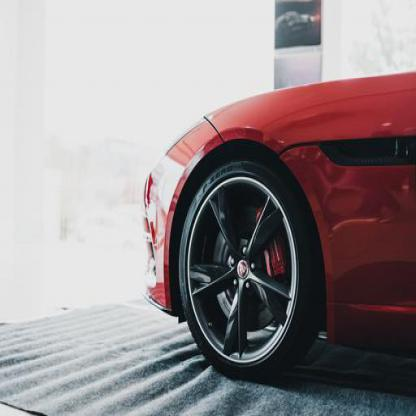Tire: (179, 157, 321, 381)
